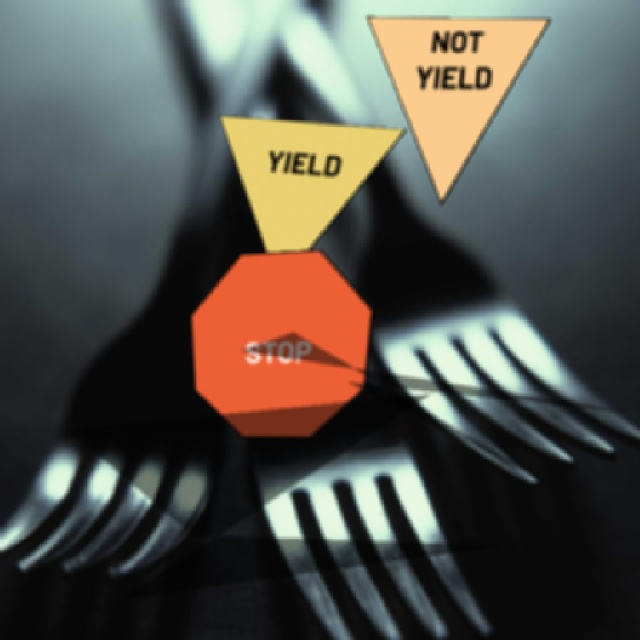NOT_YIELD: (365, 15, 550, 204)
STOP: (189, 248, 372, 437)
YIELD: (217, 114, 406, 288)
